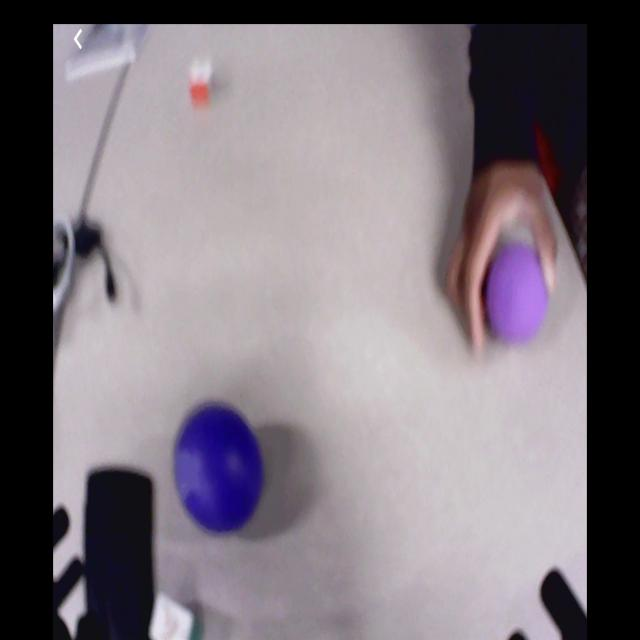ball: (176, 402, 263, 531), (484, 243, 551, 343)
